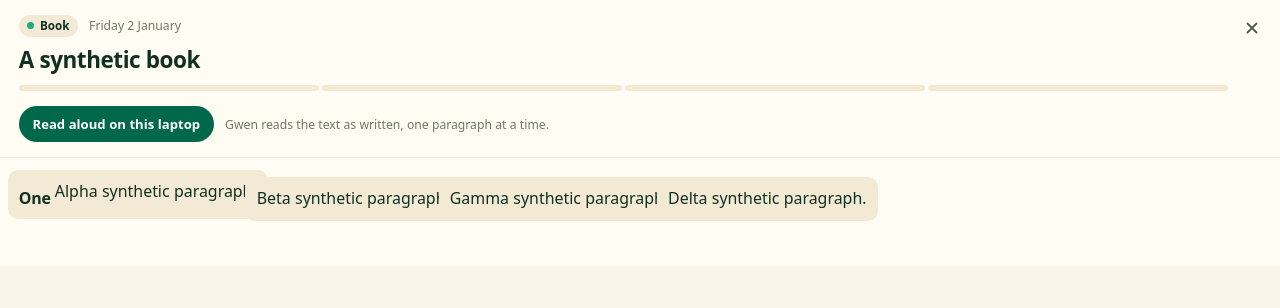
Scenario: ReadAloud: what the phone test asked for (d3, live t9 2026-10-26) › a speak answer the daemon cut is not played as the unit and never reported heard (code review of #110)
The image size is (1280, 308).
Expected: the text "Alpha synthetic paragraph." is shown, [55,178,257,211]
Click the button "Read aloud on this laptop": (116, 124) [19,106,214,142]
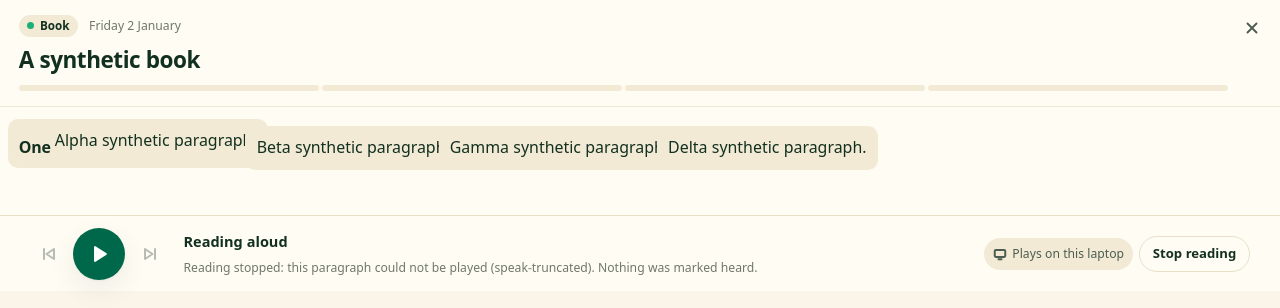
Expected: the message shows "speak-truncated", [494,259,588,276]
